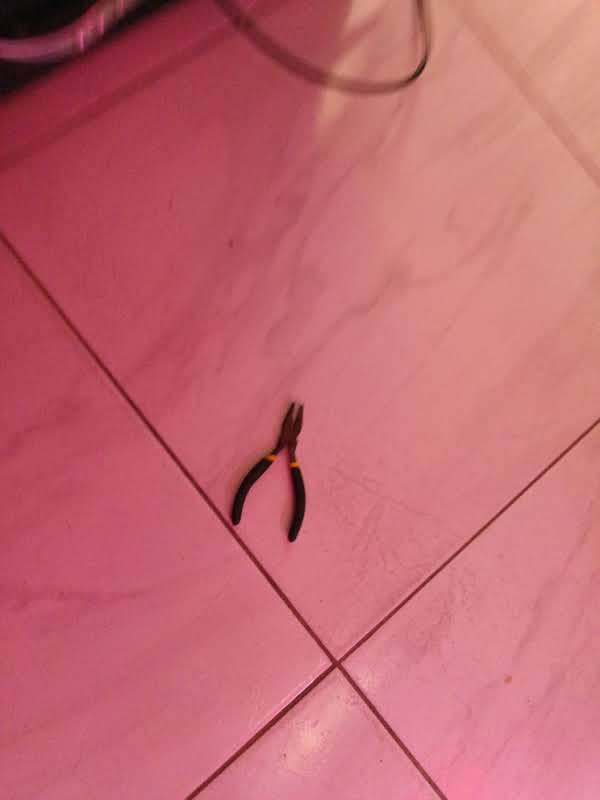Pinzas: (230, 404, 305, 541)
